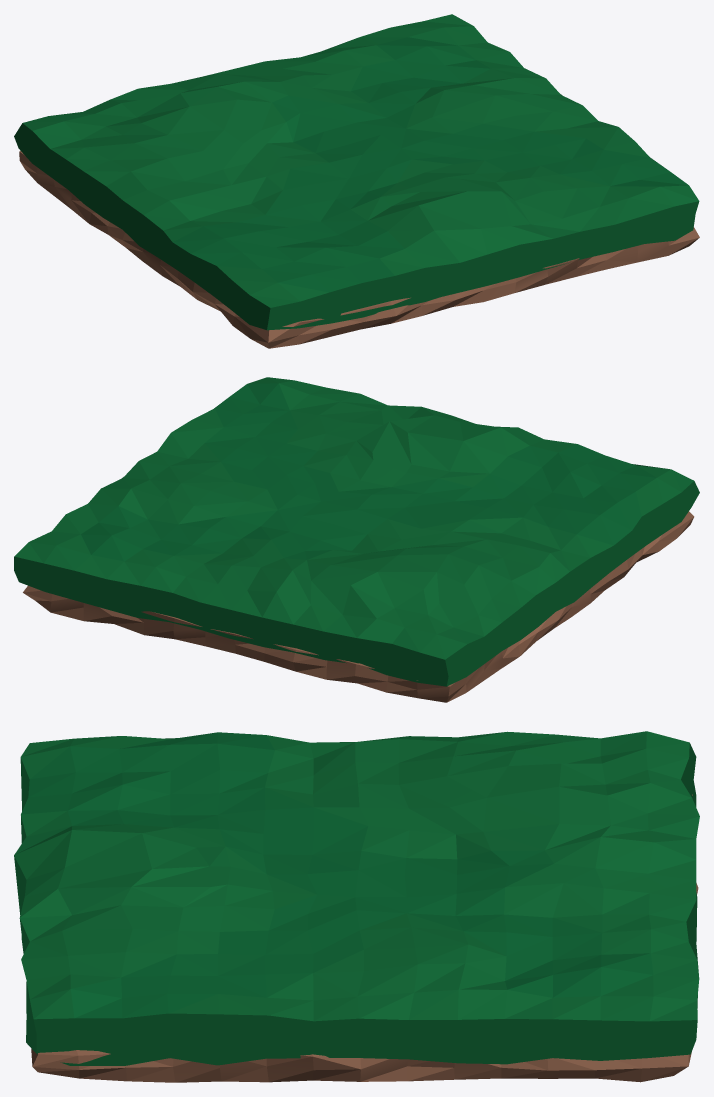
3 renders of one model, top to bottom at view 1: azimuth 30°, elevation 25°; view 2: azimuth 150°, elevation 25°; view 3: azimuth 270°, elevation 25°, orthographic. The views are drawn at different scales.
Parts seen in each view (by area): view 1: water1, ground.001; view 2: water1, ground.001; view 3: water1, ground.001.
Boxes of the visible parts, x1=… form: water1: x1=14, y1=14, x2=699, y2=330; ground.001: x1=19, y1=151, x2=699, y2=348; water1: x1=14, y1=377, x2=699, y2=686; ground.001: x1=23, y1=511, x2=694, y2=702; water1: x1=14, y1=731, x2=699, y2=1065; ground.001: x1=31, y1=794, x2=698, y2=1082.
Bounding box in the file's own units: 1018 × 163 × 1024.
